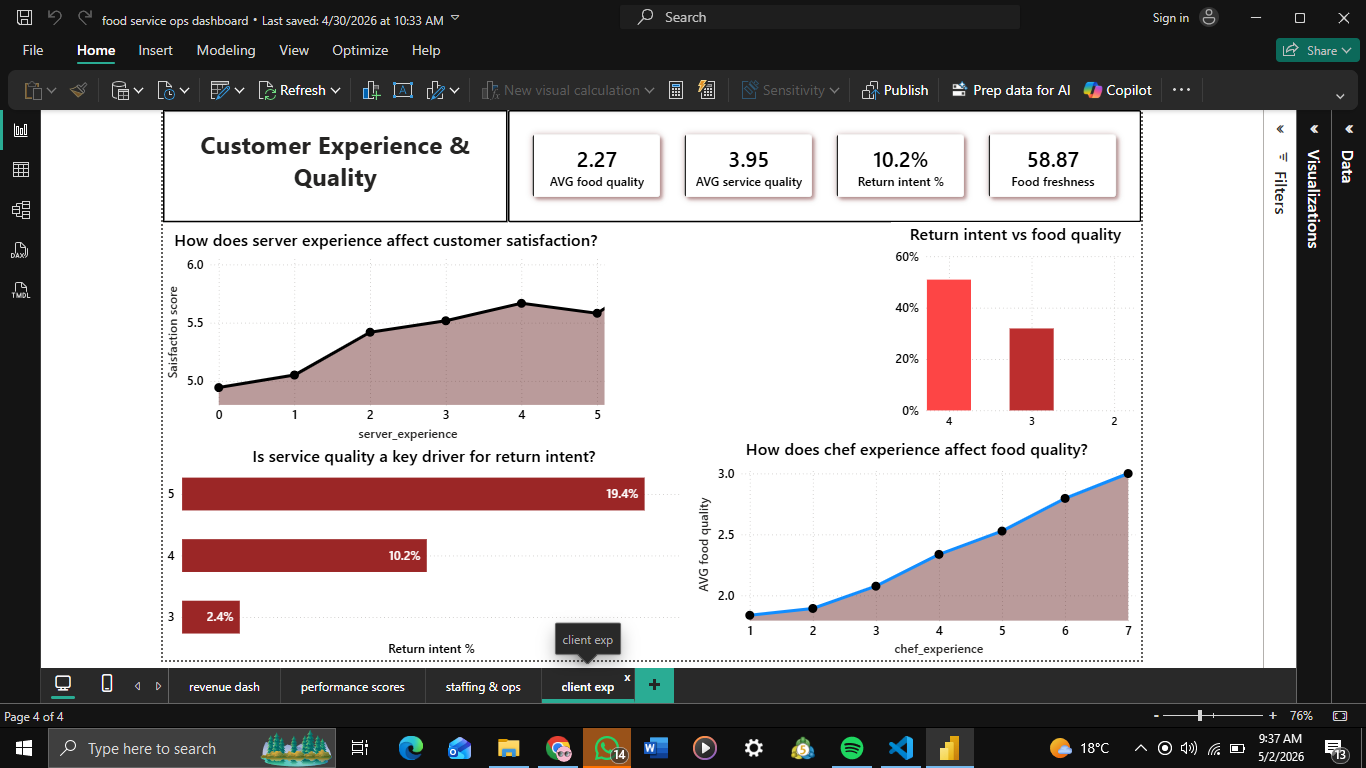

Layout of this report page (visuals, bound fields, positions):
{"tool":"powerbi","page":{"name":"client exp","canvas":[1280,720],"ordinal":3},"visuals":[{"type":"cardVisual","fields":{"Data":["Hospitality_Dataset_Food_Service.AVG food quality","Hospitality_Dataset_Food_Service.AVG service quality","Hospitality_Dataset_Food_Service.retun intent %","Hospitality_Dataset_Food_Service.Food freshness"]},"box":[451.1,0,828.7,146.9],"z":0},{"type":"barChart","title":"Is service quality a key driver for return intent?","fields":{"Y":["Hospitality_Dataset_Food_Service.retun intent %"],"Category":["Hospitality_Dataset_Food_Service.service_quality"]},"box":[0,437.9,683.3,282.1],"z":1000},{"type":"clusteredColumnChart","title":"Return intent vs food quality","fields":{"Category":["Hospitality_Dataset_Food_Service.food_quality"],"Y":["Hospitality_Dataset_Food_Service.retun intent %"]},"box":[953.6,146.9,326.2,280.7],"z":2000},{"type":"areaChart","title":"How does server experience affect customer satisfaction?","fields":{"Category":["Hospitality_Dataset_Food_Service.server_experience"],"Y":["Hospitality_Dataset_Food_Service.Saisfaction score"]},"box":[0,154.3,583.3,283.6],"z":4000},{"type":"areaChart","title":"How does chef experience affect food quality?","fields":{"Y":["Hospitality_Dataset_Food_Service.AVG food quality"],"Category":["Hospitality_Dataset_Food_Service.chef_experience"]},"box":[695,427.6,583.3,292.4],"z":5000},{"type":"textbox","box":[0,0,451.1,146.9],"z":5001}]}

Visuals, with their boxes on the page's 1280x720 design canvas (x1, y1, x2, y2). These are canvas units, not pixel positions in the 1366x768 screenshot, which may show the page scaled, cropped or inside an application window:
cardVisual - Hospitality_Dataset_Food_Service.AVG food quality x Hospitality_Dataset_Food_Service.AVG service quality: (451,0,1280,147)
"Is service quality a key driver for return intent?" barChart: (0,438,683,720)
"Return intent vs food quality" clusteredColumnChart: (954,147,1280,428)
"How does server experience affect customer satisfaction?" areaChart: (0,154,583,438)
"How does chef experience affect food quality?" areaChart: (695,428,1278,720)
textbox: (0,0,451,147)
